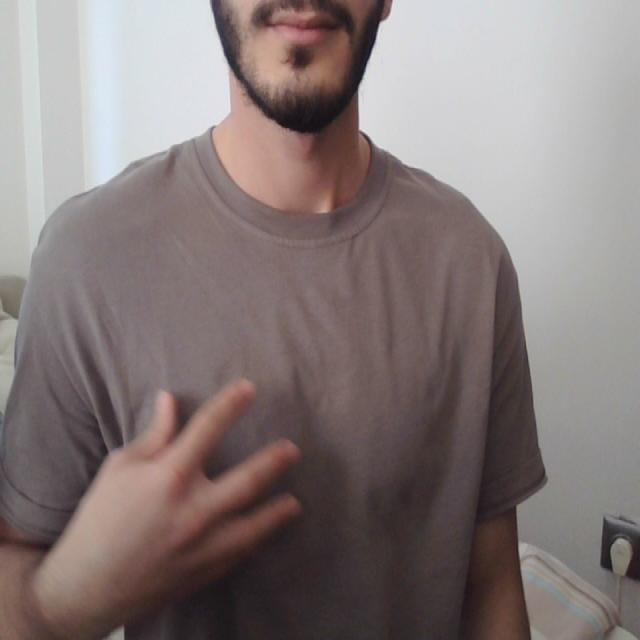Anne: (67, 368, 521, 612)
